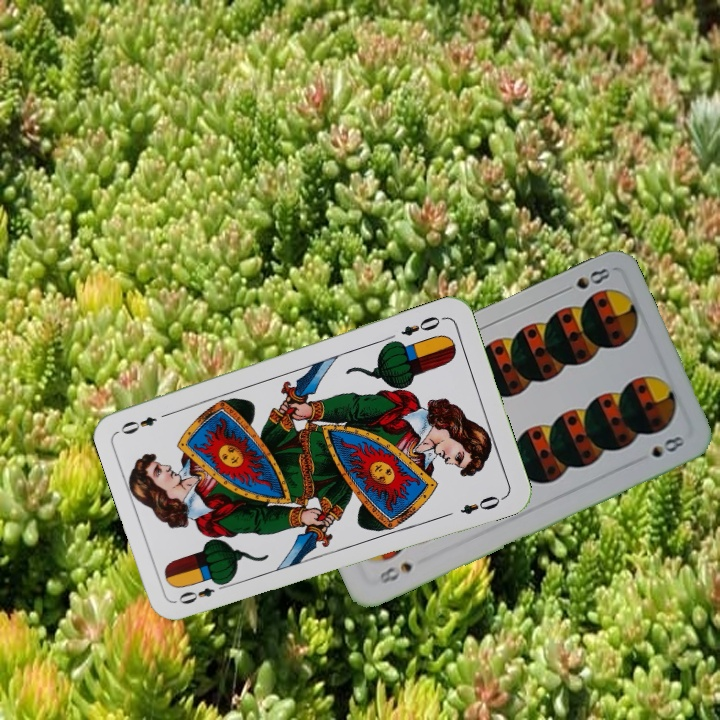EO: (174, 577, 231, 607), (397, 312, 447, 339)
S8: (556, 264, 613, 298), (372, 558, 415, 587)
